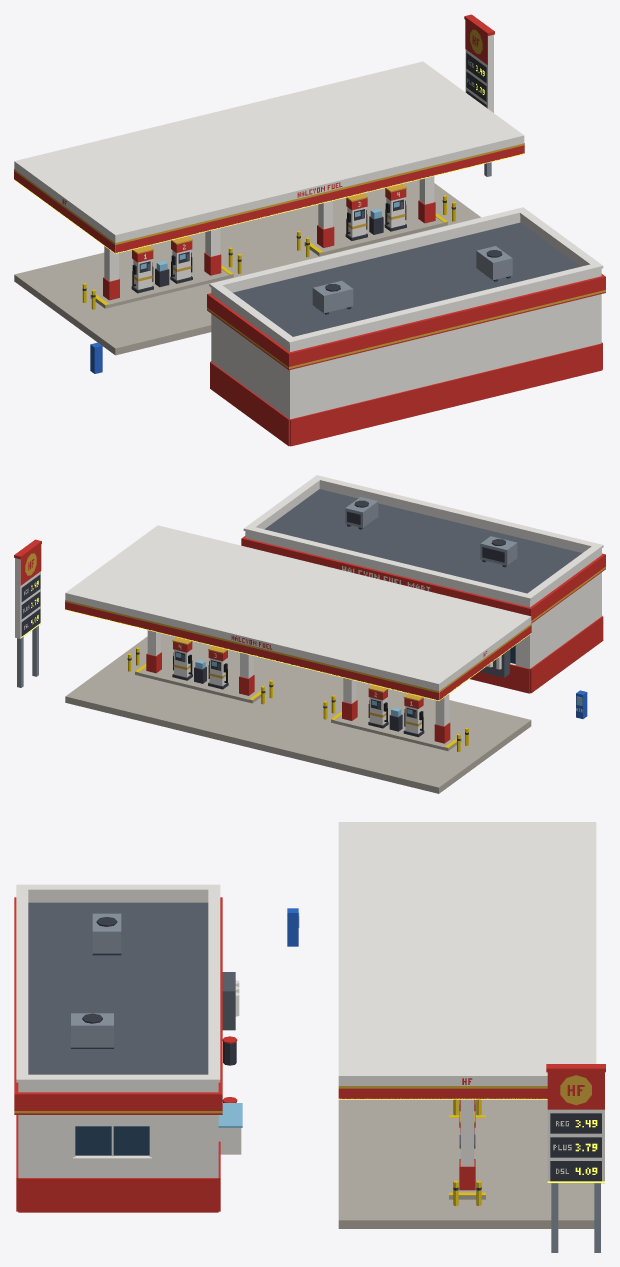
Rendered from gas_station.glb.
3 renders of one model, top to bottom at view 1: azimuth 30°, elevation 25°; view 2: azimuth 150°, elevation 25°; view 3: azimuth 270°, elevation 25°, orthographic. The views are drawn at different scales.
Visible parts, largest first — view 1: Building, Building_Detail, Pump_1, Pump_4, Pump_2, Pump_3, Building_Neon; view 2: Building, Building_Detail, Pump_1, Pump_4, Pump_3, Pump_2, Building_Neon; view 3: Building, Building_Detail, Building_Glass, Building_Neon.
Part boxes in pixels (box(x1,y1,x2,y2)): Building: box(14, 14, 605, 446); Building_Detail: box(14, 20, 605, 368); Pump_1: box(131, 246, 153, 293); Pump_4: box(384, 184, 406, 231); Pump_2: box(170, 236, 192, 283); Pump_3: box(345, 193, 367, 240); Building_Neon: box(14, 65, 524, 253); Building: box(14, 475, 605, 793); Building_Detail: box(20, 497, 605, 747); Pump_1: box(403, 693, 424, 737); Pump_4: box(172, 637, 192, 680); Pump_3: box(208, 646, 228, 689); Pump_2: box(368, 685, 388, 728); Building_Neon: box(20, 580, 531, 700); Building: box(14, 822, 605, 1252); Building_Detail: box(14, 913, 604, 1195); Building_Glass: box(75, 1126, 149, 1155); Building_Neon: box(338, 1098, 604, 1182).
Bounding box in the file's own units: 25.79 × 7.94 × 20.69.
